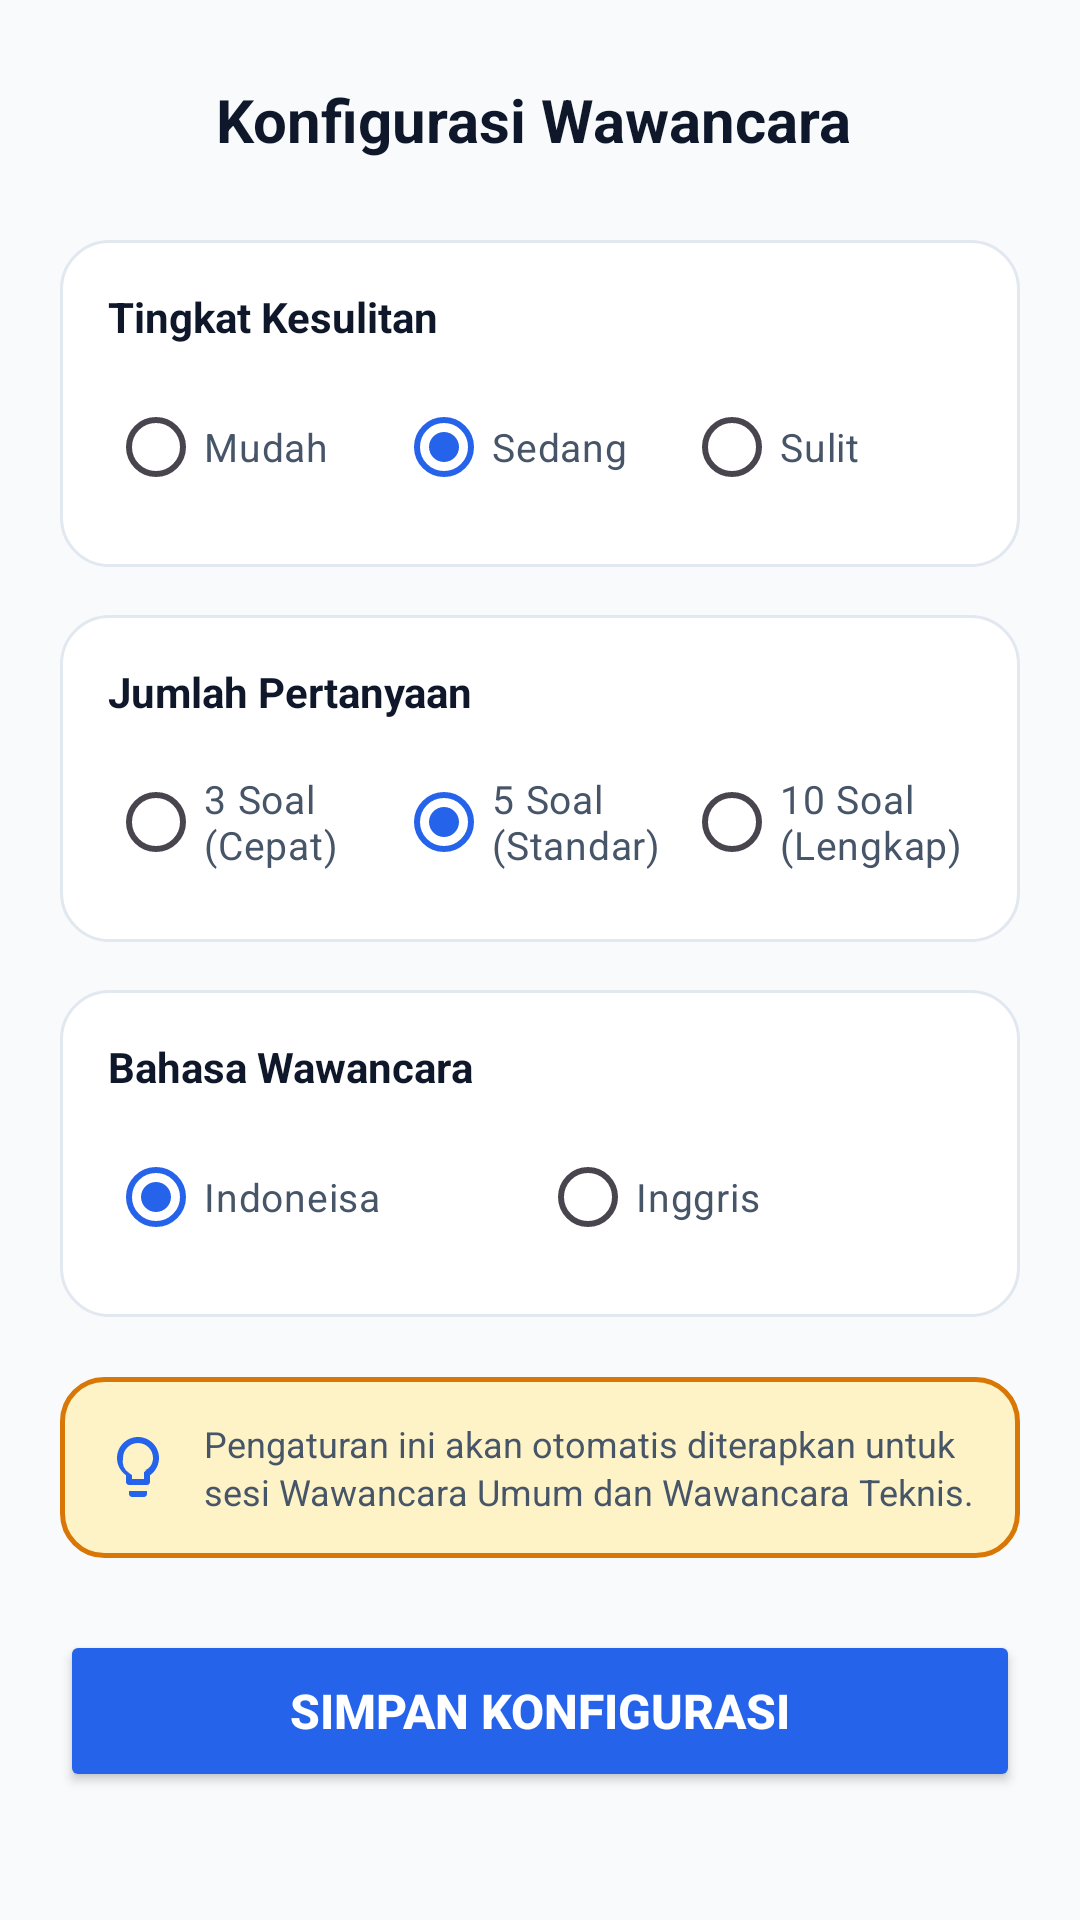

Where to tap for icons on this 1080px×1920px app screen, as (x=x, y=y):
Tips: (x=138, y=1467)
